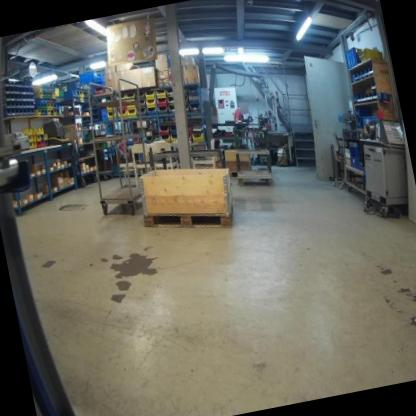pallet: (140, 195, 238, 245)
